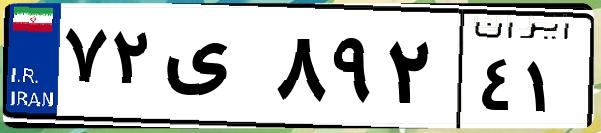1: (525, 38, 570, 115)
2: (385, 28, 445, 110), (110, 28, 158, 98)
4: (475, 38, 525, 113)
7: (57, 26, 110, 100)
8: (270, 28, 330, 110)
9: (330, 28, 385, 110)
ی: (158, 20, 270, 120)
